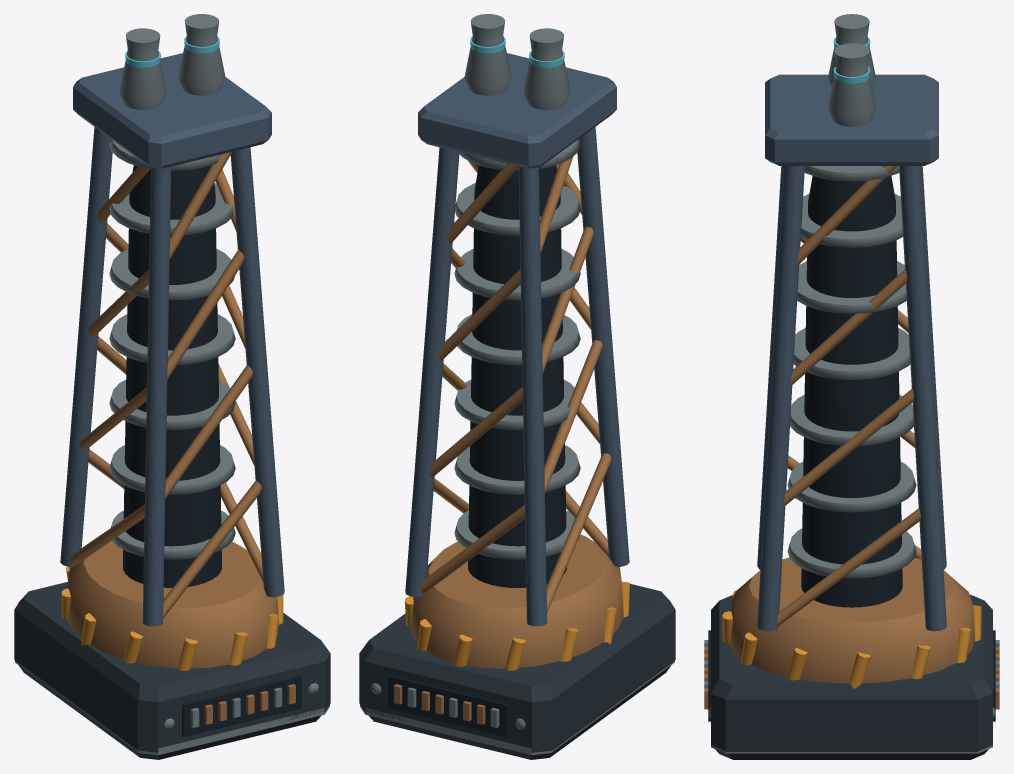
The model's file is tower_ignis.glb.
3 renders of one model, left to right at view 1: azimuth 30°, elevation 25°; view 2: azimuth 150°, elevation 25°; view 3: azimuth 270°, elevation 25°, orthographic. The views are drawn at different scales.
Parts seen in each view (by area): view 1: tower_ignis; view 2: tower_ignis; view 3: tower_ignis.
Part boxes in pixels (x1,y1,x2,y2): tower_ignis: (14, 14, 330, 759); tower_ignis: (359, 14, 675, 759); tower_ignis: (704, 14, 999, 759).
Size of the model in its own units: 3.2 by 10.57 by 4.17.
